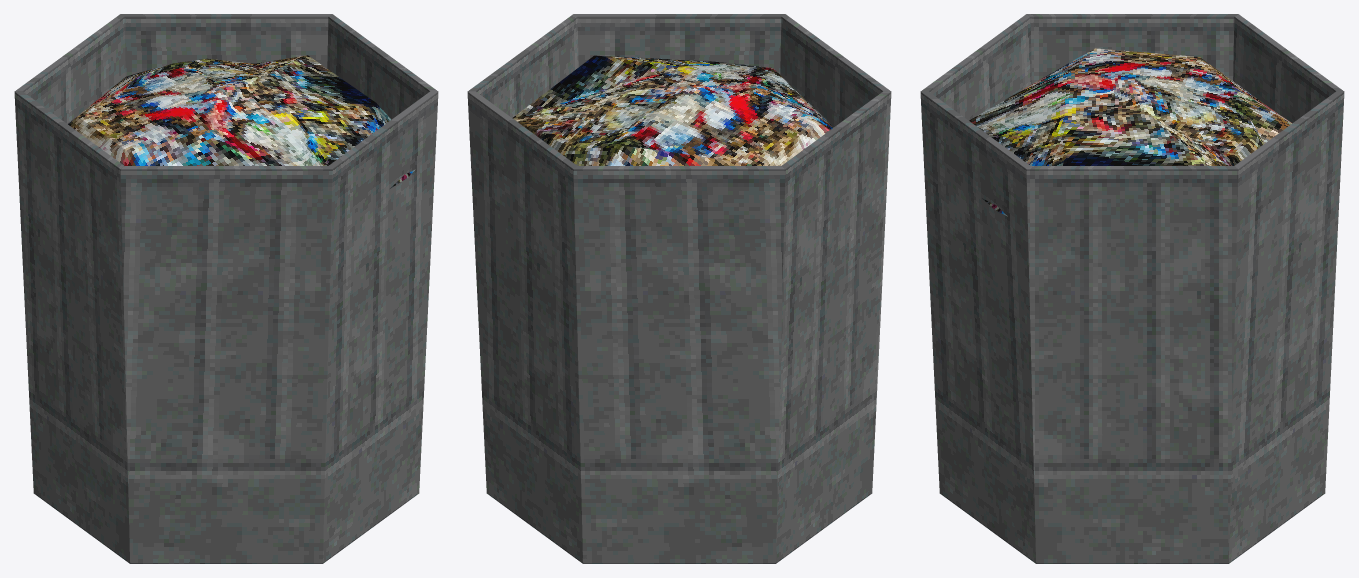
Rendered from metaltrashcan_open_filled.glb.
3 renders of one model, left to right at view 1: azimuth 30°, elevation 25°; view 2: azimuth 150°, elevation 25°; view 3: azimuth 270°, elevation 25°, orthographic.
Visible parts, largest first — view 1: metaltrashcan_open_filled; view 2: metaltrashcan_open_filled; view 3: metaltrashcan_open_filled.
Part boxes in pixels (x1,y1,x2,y2): metaltrashcan_open_filled: (14, 14, 438, 563); metaltrashcan_open_filled: (467, 14, 891, 563); metaltrashcan_open_filled: (920, 14, 1344, 563).
Size of the model in its own units: 0.7263 by 0.8897 by 0.8387.
Materials: 2 (2 with a texture image).
